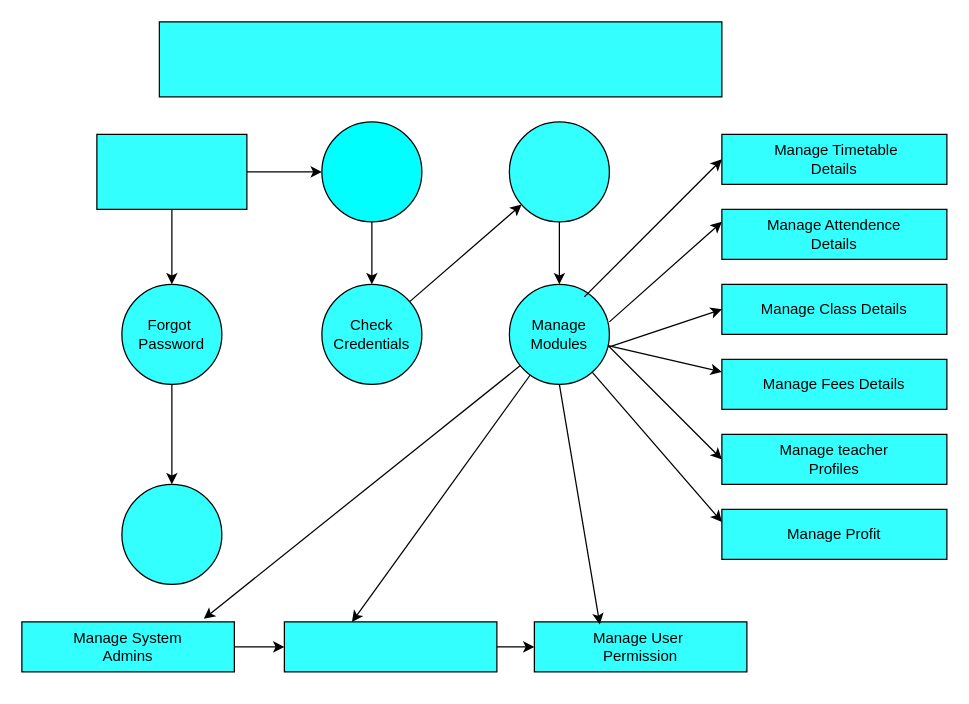
The diagram is 969 pixels wide and 704 high, and some of its shapes have lost their labels. The centre of each missing label's shape, as x and y in pixels:
Admin: point 171,171
Check roles of Access: point 558,171
Login to System: point 371,171
Manage Roles of User: point 390,646
Send Email to User: point 171,533
student information system: point 440,59
